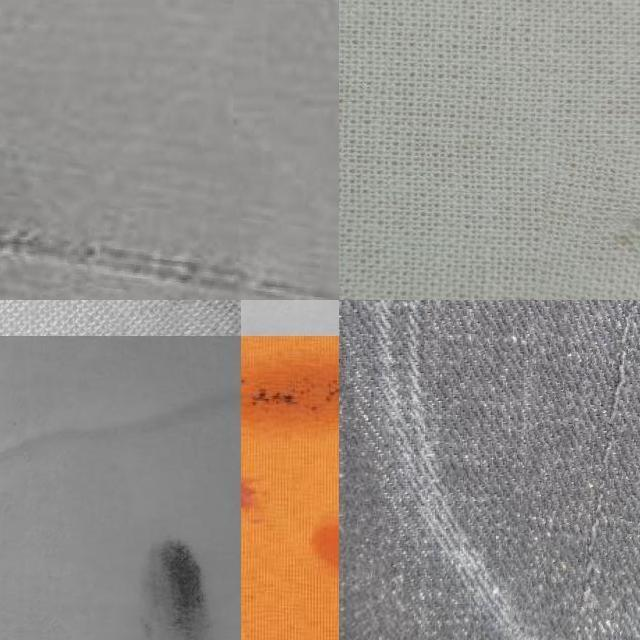Thread_other: (240, 336, 339, 586), (125, 511, 239, 640)
other: (537, 143, 640, 300)
stains: (0, 150, 339, 300), (521, 300, 640, 640)
